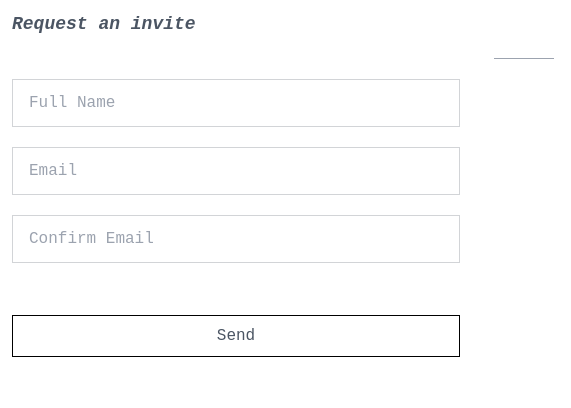
SignupForm › should display API error messages
Type "John Doe" into the field with placeholder "Full Name" at {"x": 236, "y": 103}, box [12,79,460,127]
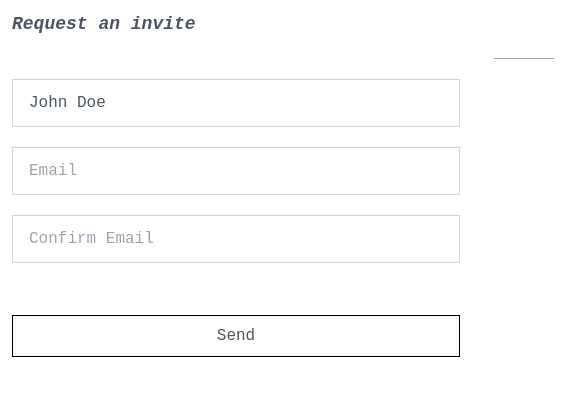
Type "bademail@airwallex.com" into the field with placeholder "Email" at {"x": 236, "y": 171}, box [12,147,460,195]
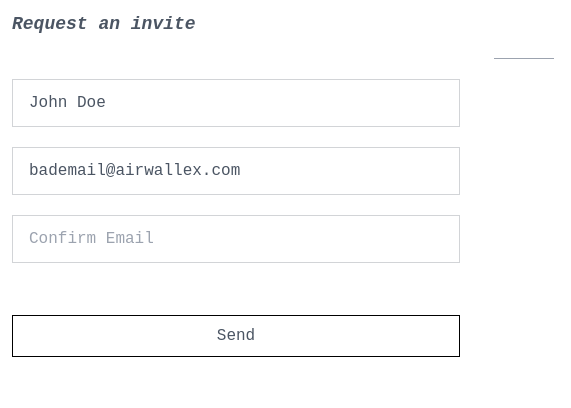
Type "bademail@airwallex.com" into the field with placeholder "Confirm Email" at {"x": 236, "y": 239}, box [12,215,460,263]
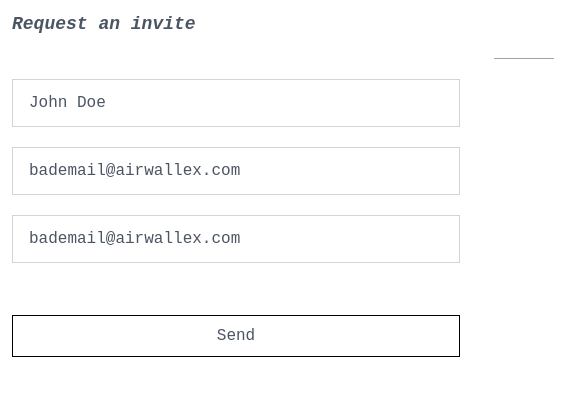
Click the button at {"x": 236, "y": 336}, box [12,315,460,357]
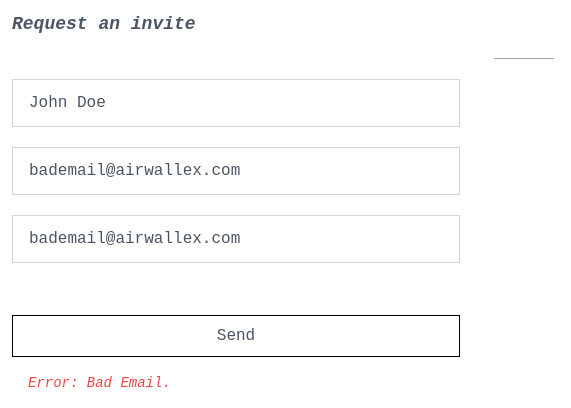
Expected: the text "Error: Bad Email." is shown, [28,375,171,391]
